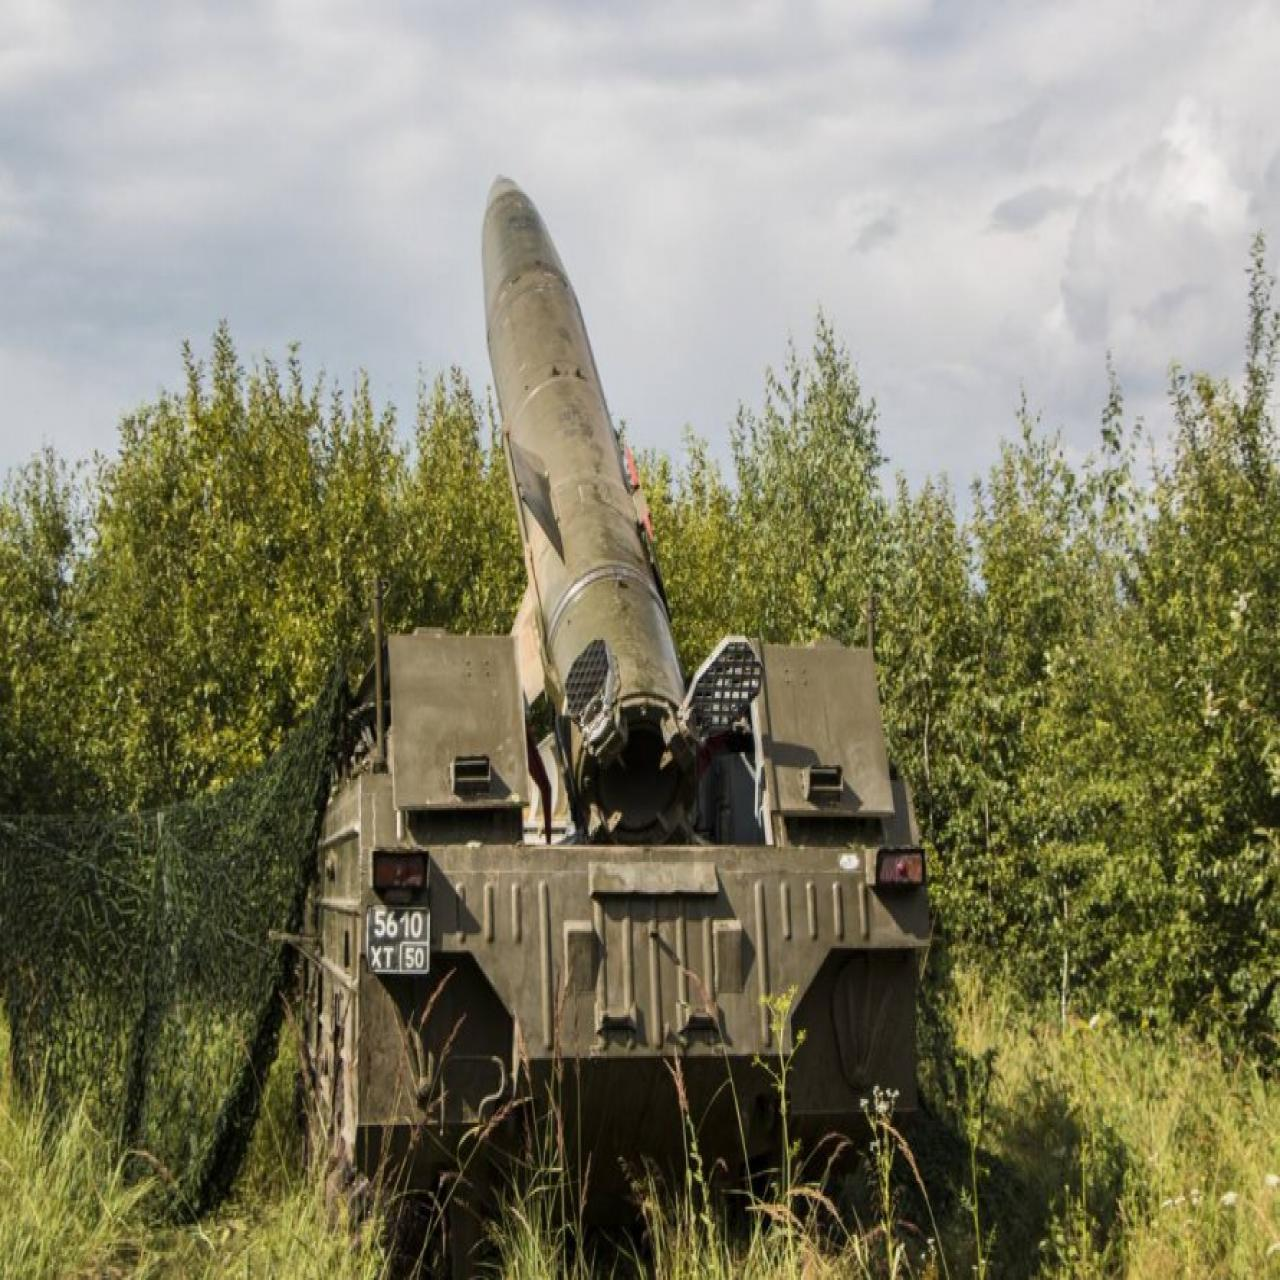MIL_Veh: (272, 170, 928, 1218)
